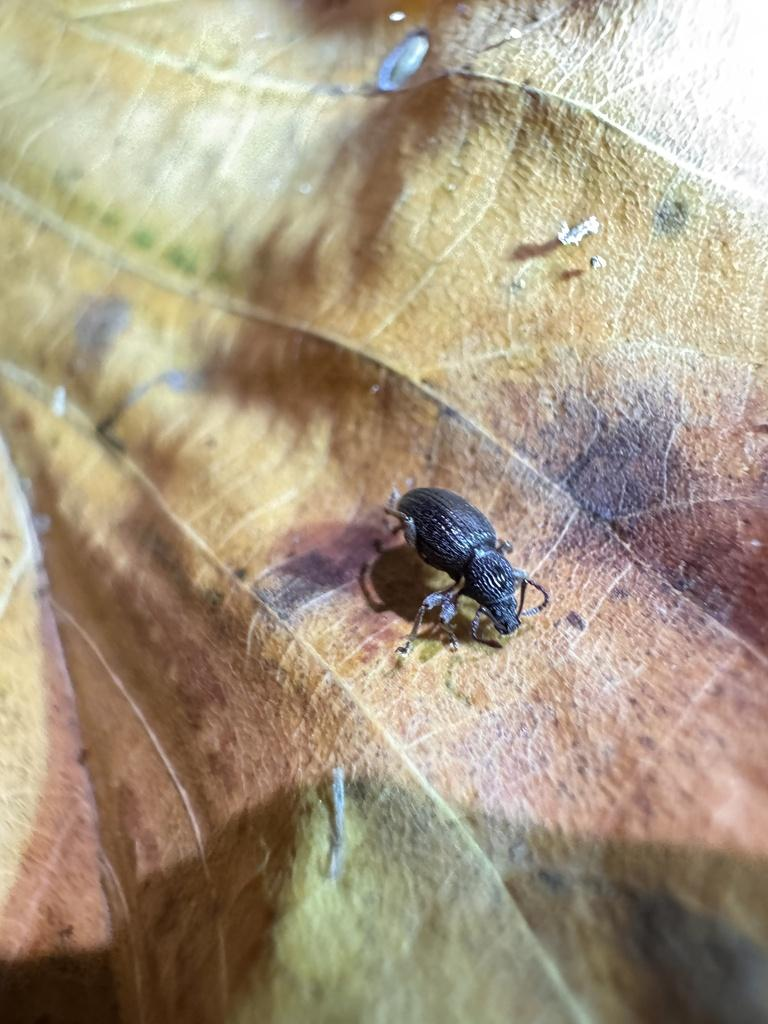weevils: (343, 439, 590, 699)
